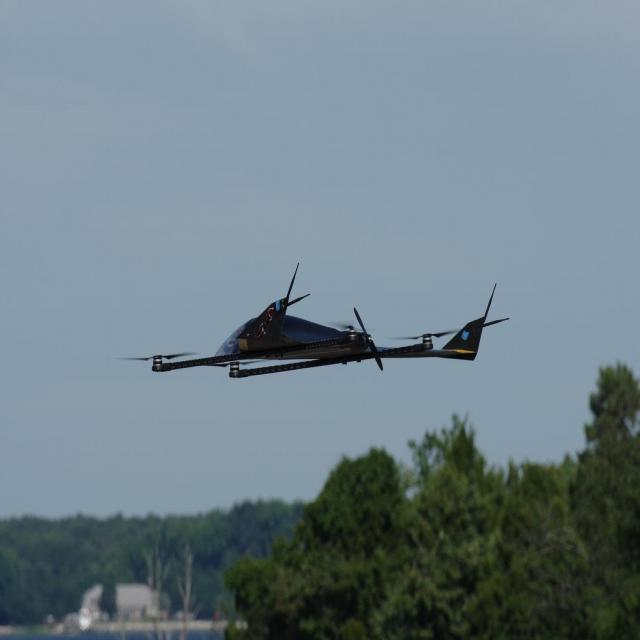iha: (142, 306, 499, 359)
